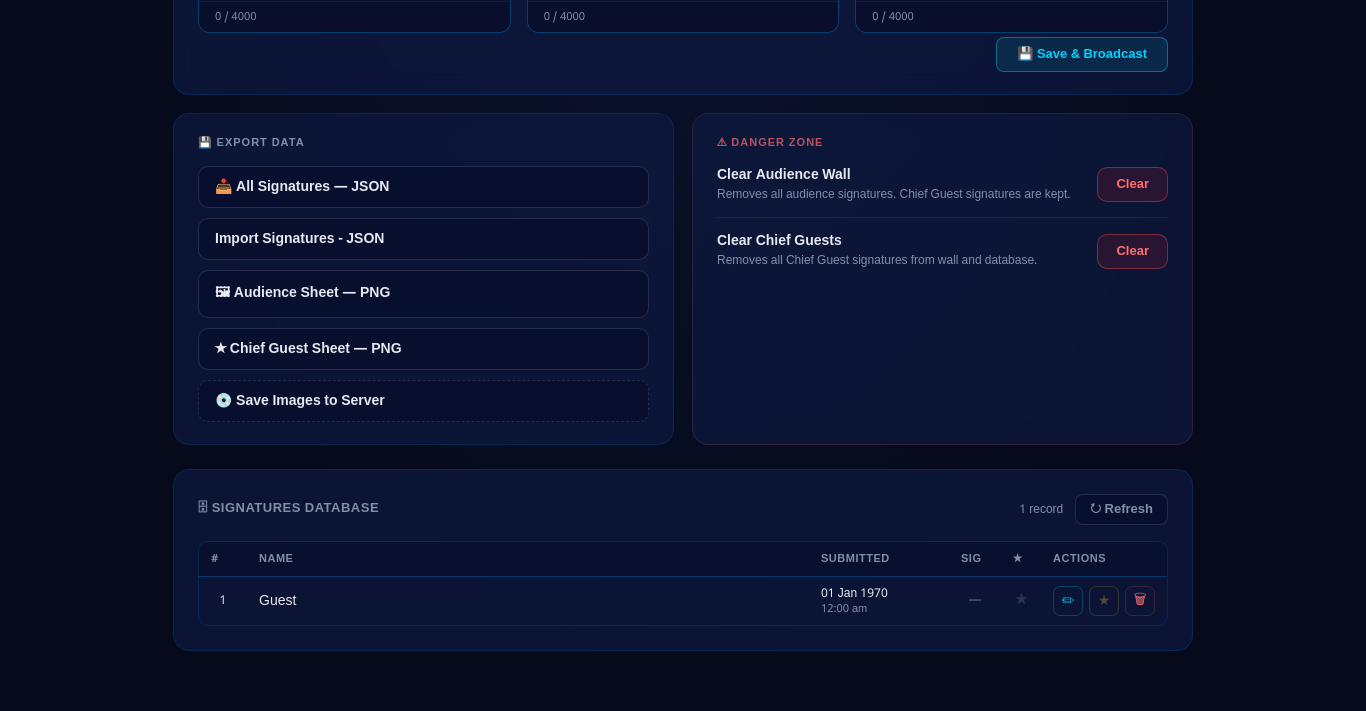
Test: AdminPage › toggles chief-guest status from the database table
(page scrolled)
Expected: the text "Guest" is shown, [259, 593, 296, 610]
Click the button titled "Mark as Chief Guest" at (1104, 601), box [1089, 586, 1119, 616]
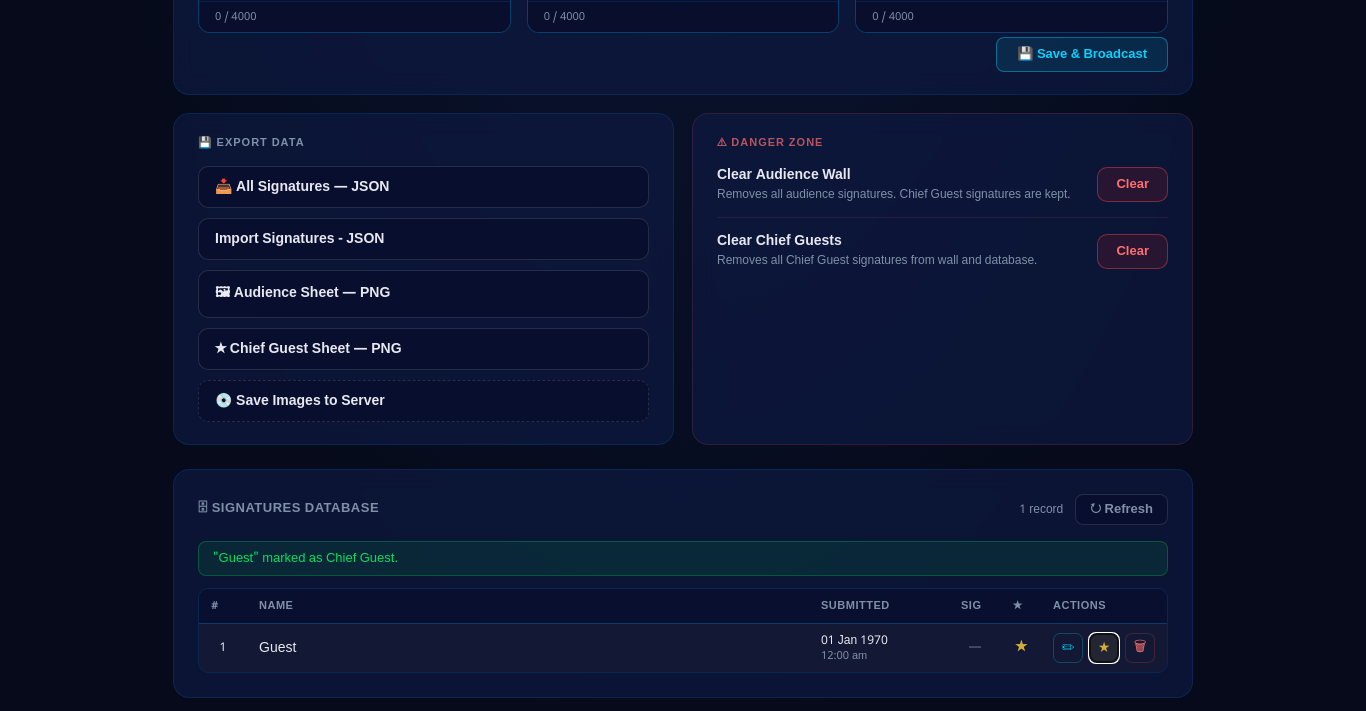
Result: the text "\"Guest\" marked as Chief Guest." is shown at [198, 541, 1168, 576]
